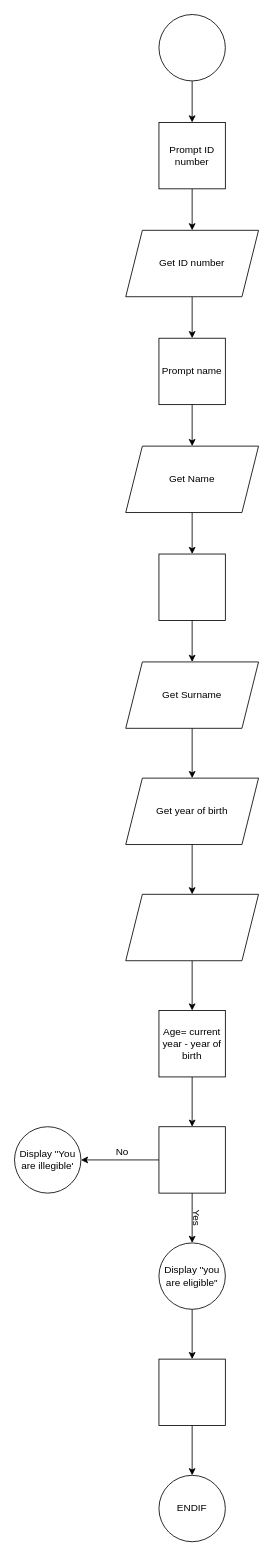
Image size: 273x1556. Some labels were removed from this diagram. The shapes that lost their labels are listed below. From the top down, each one's centre as x and y in pixels, then its label:
At pixel 191 47: "START".
At pixel 191 586: "Prompt Surname".
At pixel 192 927: "Get current year".
At pixel 191 1159: "Is age>18".
At pixel 191 1392: "Prompt sign-up".
